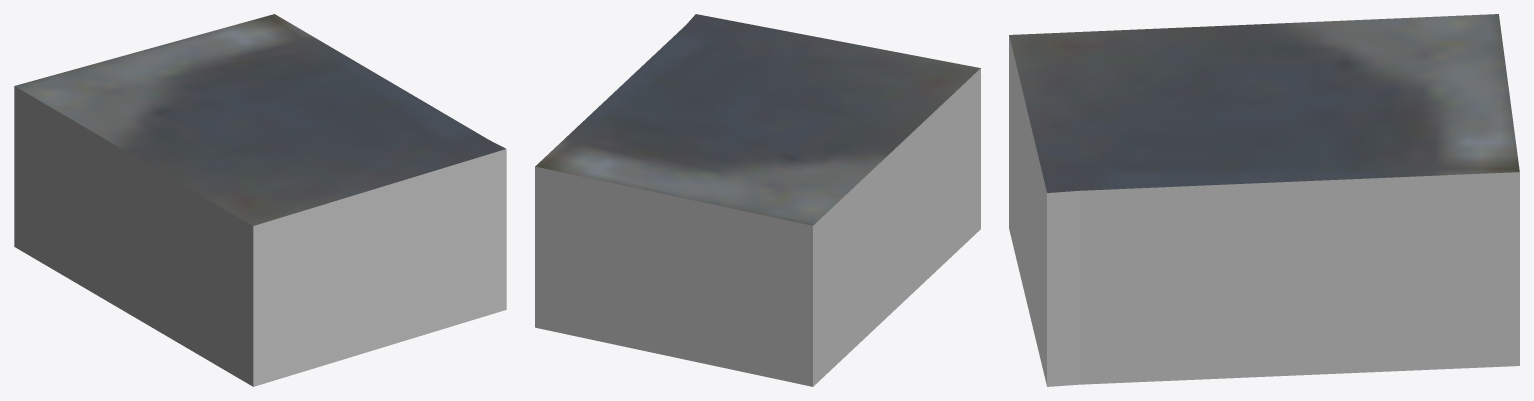
Rendered from DEBW_0010007TxdQ.gltf.
The picture shows the model from 3 angles, left to right: view 1: azimuth 30°, elevation 25°; view 2: azimuth 150°, elevation 25°; view 3: azimuth 270°, elevation 25°; orthographic projection. The views are drawn at different scales.
Parts seen in each view (by area): view 1: Z_UP; view 2: Z_UP; view 3: Z_UP.
Boxes of the visible parts, x1,y1,x2,y2 form: Z_UP: (14, 14, 506, 386); Z_UP: (535, 14, 980, 386); Z_UP: (1009, 14, 1519, 386).
Bounding box in the file's own units: 5.46 × 2.76 × 6.58.
Materials: 2 (1 with a texture image).
